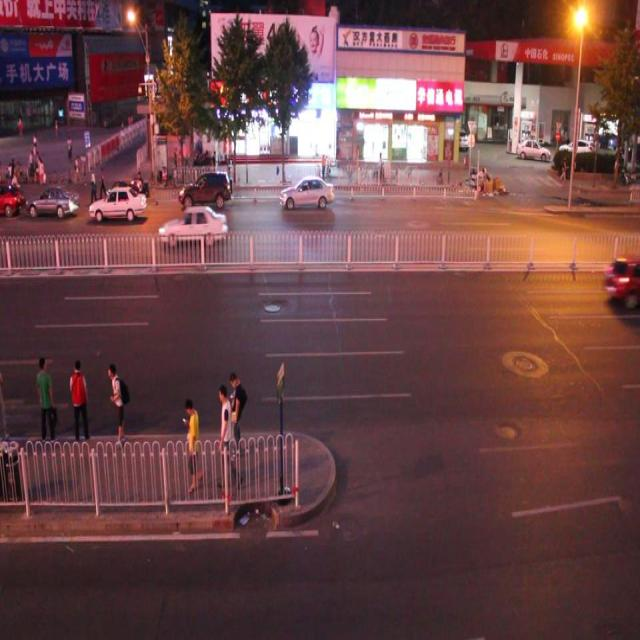car: (157, 203, 228, 245), (175, 172, 237, 217), (278, 175, 335, 220), (25, 186, 81, 226), (88, 185, 146, 222), (101, 180, 145, 223)
